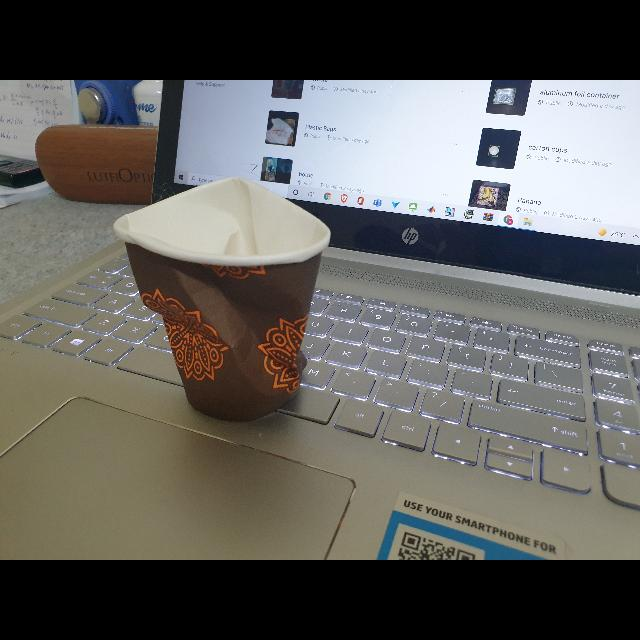trash: (102, 168, 342, 428)
